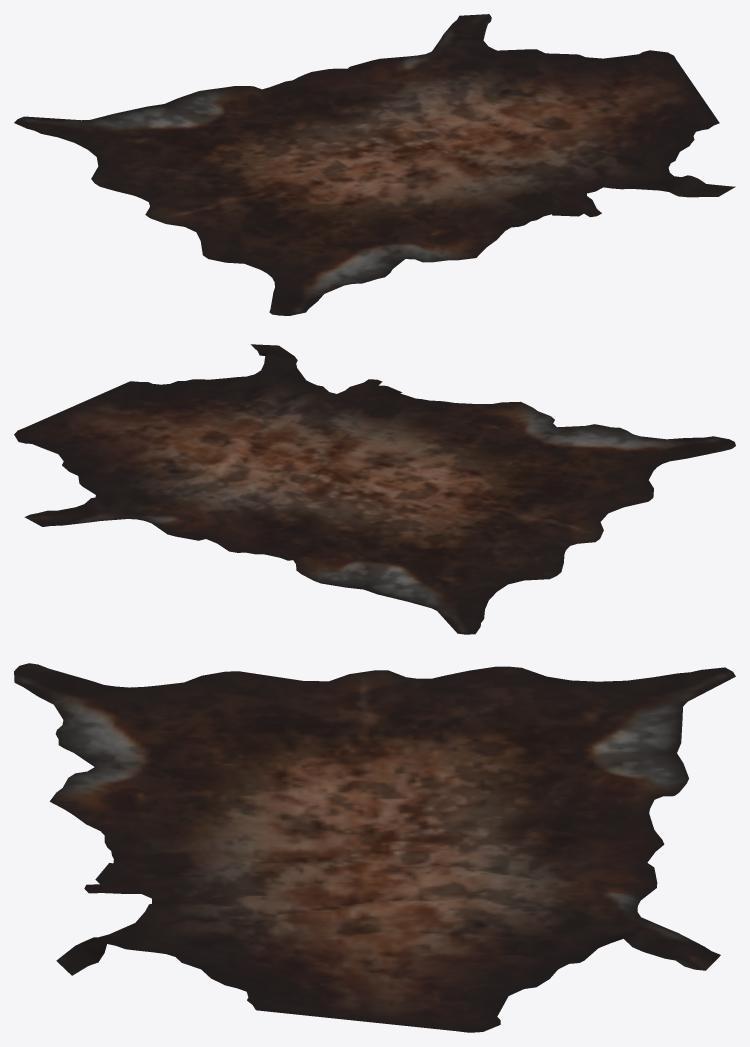
The model's file is SM_AnimalHide8.fbx.
3 views of the same model, one above another, from view 1: azimuth 30°, elevation 25°; view 2: azimuth 150°, elevation 25°; view 3: azimuth 270°, elevation 25° (orthographic). The views are drawn at different scales.
Parts seen in each view (by area): view 1: SM_AnimalHide8_LOD0; view 2: SM_AnimalHide8_LOD0; view 3: SM_AnimalHide8_LOD0.
Part boxes in pixels (left/top/right/bottom): SM_AnimalHide8_LOD0: left=14, top=14, right=735, bottom=315; SM_AnimalHide8_LOD0: left=14, top=344, right=735, bottom=634; SM_AnimalHide8_LOD0: left=14, top=663, right=735, bottom=1032.
Size of the model in its own units: 181 by 150 by 2.7.
1 material, 1 textured.
